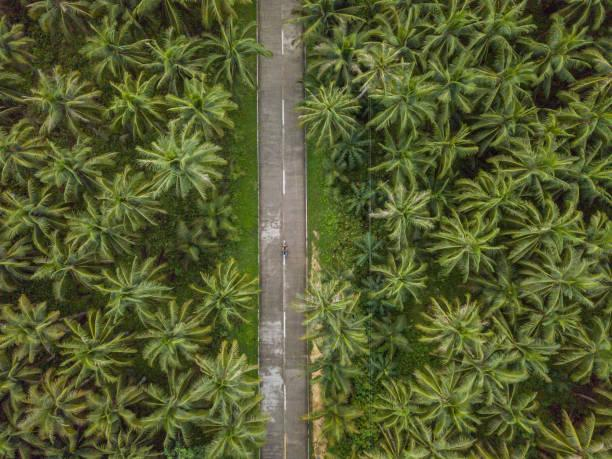coconut_tree: (142, 123, 228, 212), (176, 329, 262, 418), (364, 42, 450, 131), (504, 190, 590, 279), (1, 359, 87, 448), (25, 119, 111, 208), (96, 243, 182, 332), (415, 274, 501, 363), (365, 163, 451, 252), (176, 346, 268, 419), (407, 370, 489, 442), (297, 80, 371, 157), (20, 66, 104, 131), (149, 302, 211, 375), (443, 213, 506, 274), (497, 136, 566, 190), (102, 68, 169, 123), (165, 81, 236, 125)
